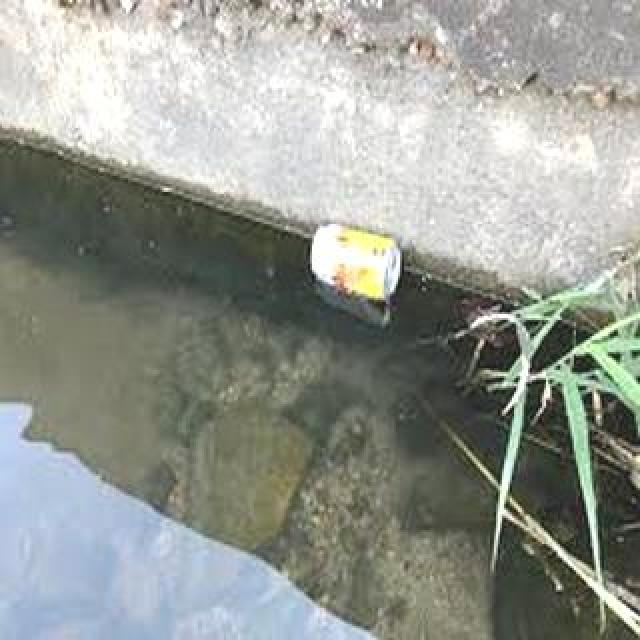Can: (300, 217, 416, 309)
